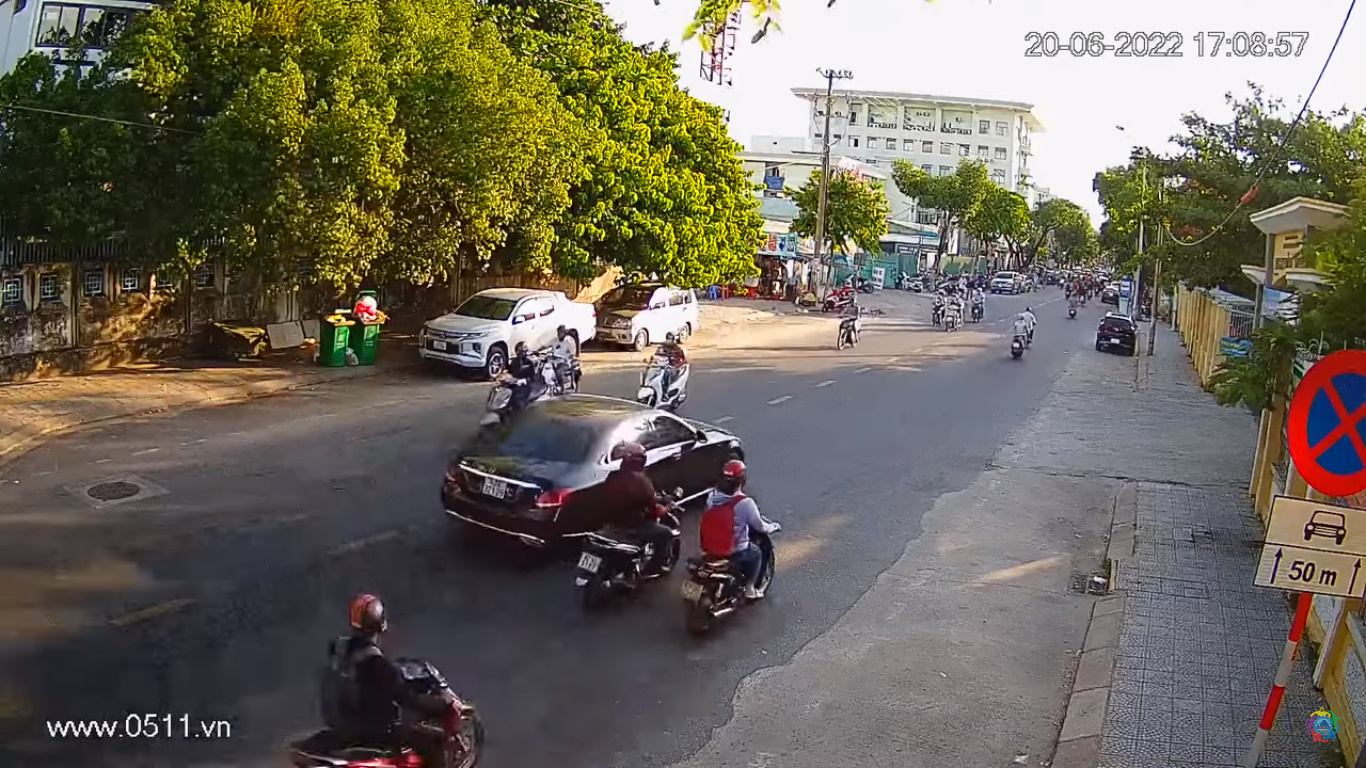car: (440, 389, 744, 559)
